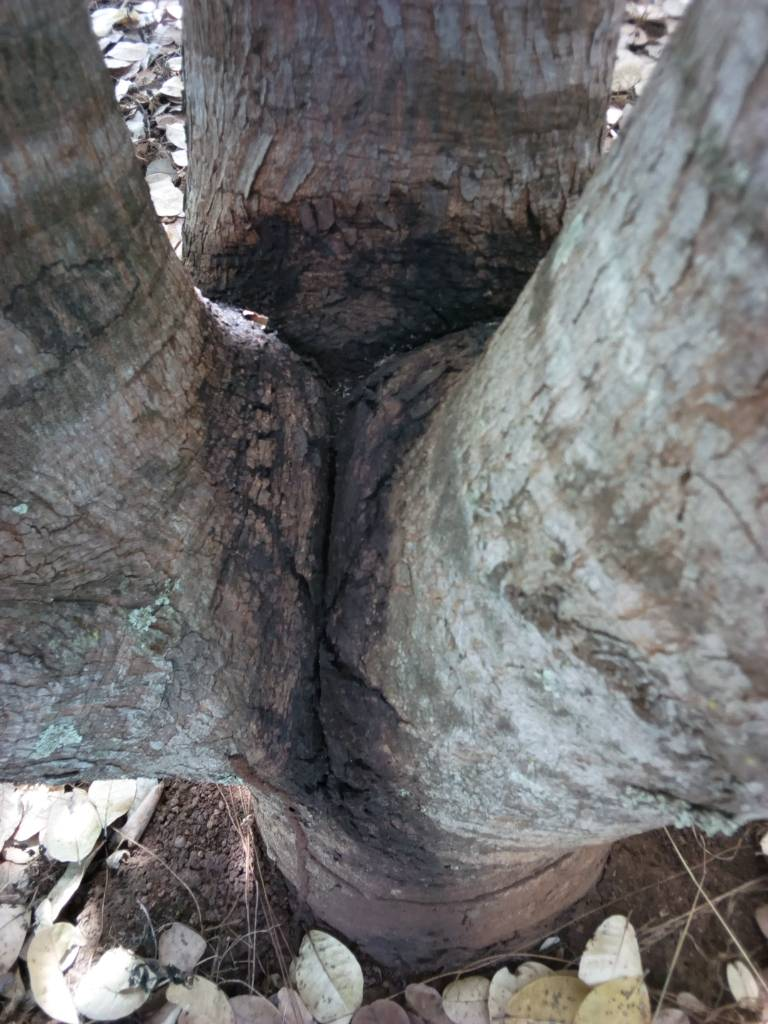Gommose: (202, 219, 440, 825)
